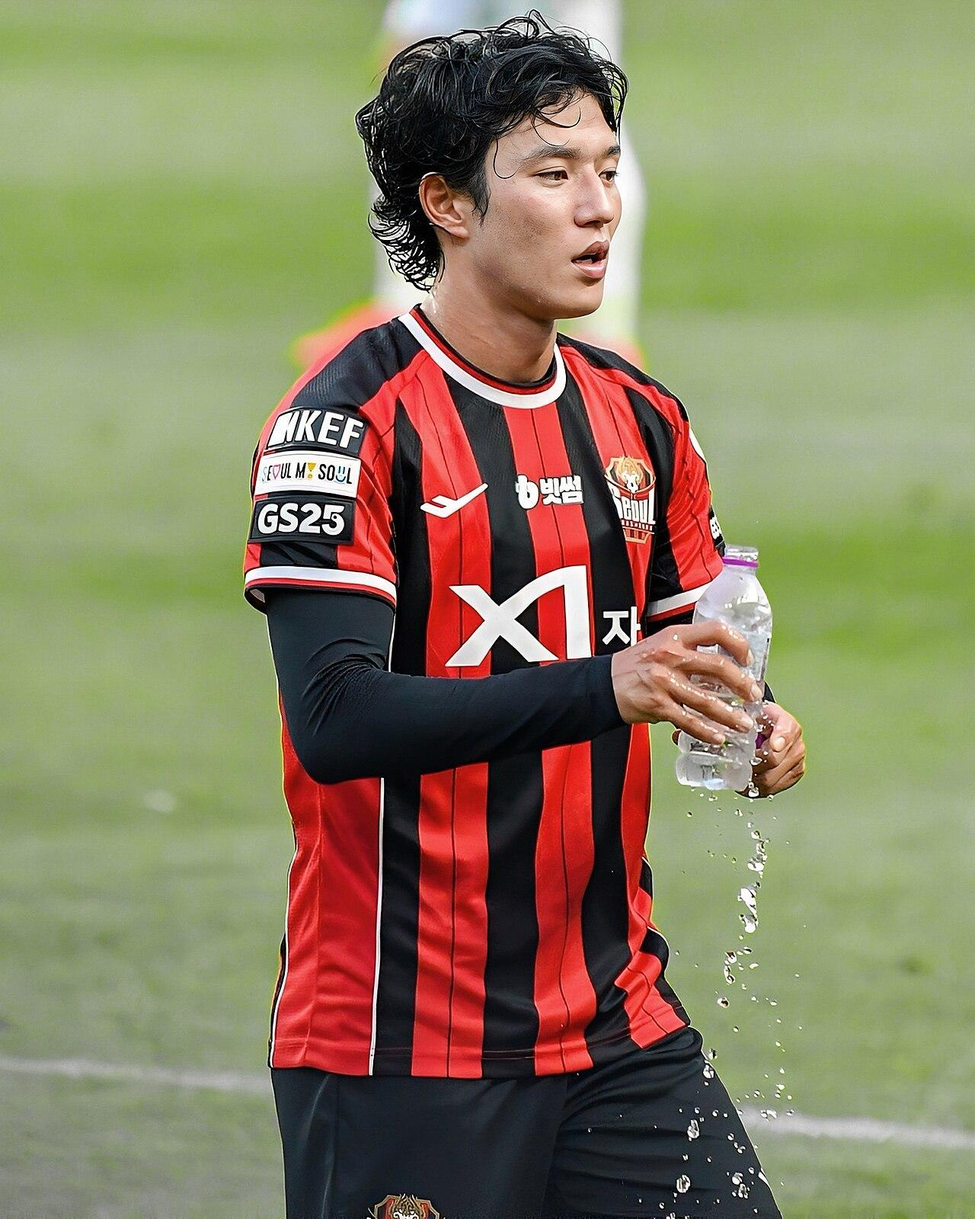water drop: (675, 1174, 691, 1193), (686, 1119, 700, 1138), (737, 1184, 750, 1200), (702, 1064, 715, 1078), (716, 997, 730, 1009), (732, 1172, 742, 1184), (750, 830, 761, 840), (708, 1049, 718, 1060), (750, 757, 762, 766), (748, 788, 759, 797), (735, 809, 743, 817)
